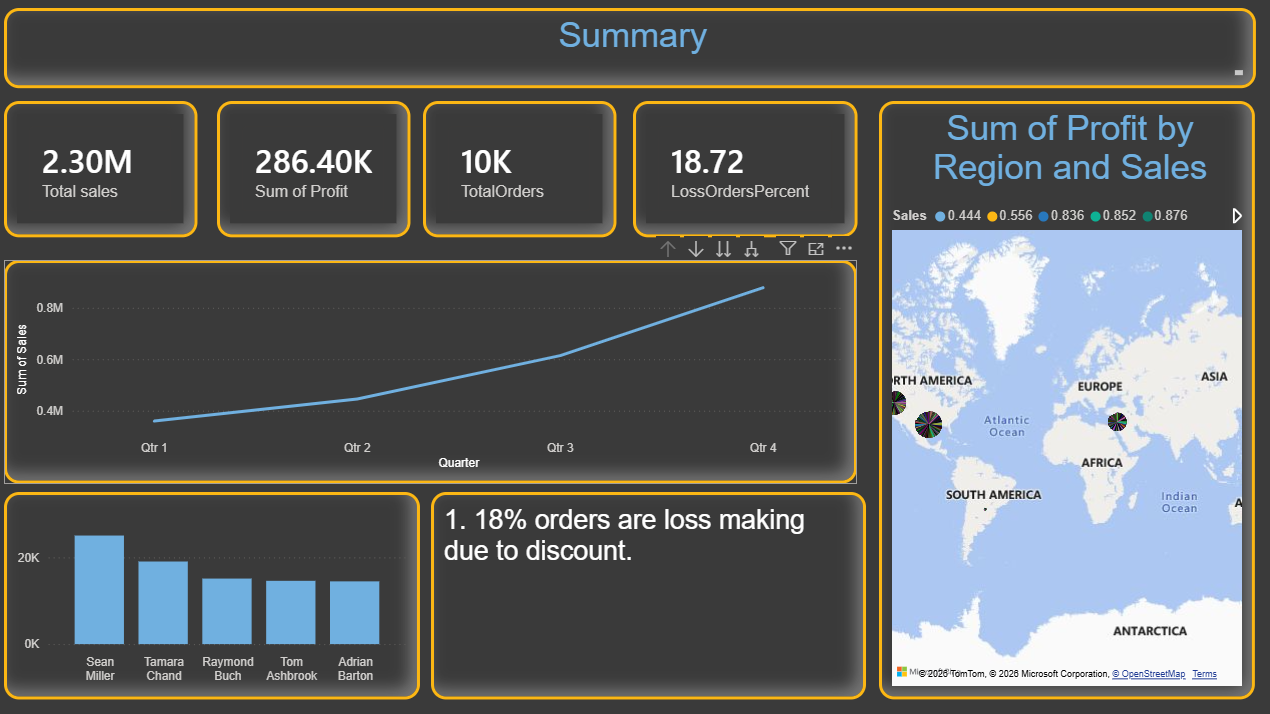

This screenshot's page, from the dashboard's own definition file:
{"tool":"powerbi","page":{"name":"summary","canvas":[1280,720],"ordinal":6},"visuals":[{"type":"cardVisual","fields":{"Data":["Sample -- Superstore (2).Total sales"]},"box":[12.8,104.5,192.8,135.9],"z":0},{"type":"cardVisual","fields":{"Data":["Sum(Sample -- Superstore (2).Profit)"]},"box":[225.3,104.5,192.8,135.9],"z":1000},{"type":"cardVisual","fields":{"Data":["Sample -- Superstore (2).TotalOrders"]},"box":[430.9,104.5,192.8,135.9],"z":2000},{"type":"cardVisual","fields":{"Data":["Sample -- Superstore (2).LossOrdersPercent"]},"box":[640,104.5,224.2,135.9],"z":3000},{"type":"lineChart","fields":{"Category":["Sample -- Superstore (2).Order Date.Variation.Date Hierarchy.Quarter","Sample -- Superstore (2).Order Date.Variation.Date Hierarchy.Month"],"Y":["Sum(Sample -- Superstore (2).Sales)"]},"box":[12.8,263.7,851.4,223],"z":4000},{"type":"textbox","title":"Summary","box":[12.8,11.6,1248.6,80.1],"z":5000},{"type":"map","fields":{"Category":["Sample -- Superstore (2).Region"],"Series":["Sample -- Superstore (2).Sales"],"Size":["Sum(Sample -- Superstore (2).Profit)"]},"box":[886.2,104.5,375.2,597],"z":6000},{"type":"clusteredColumnChart","fields":{"Category":["Sample -- Superstore (2).Customer Name"],"Y":["Sum(Sample -- Superstore (2).Sales)"]},"box":[12.8,494.8,414.7,206.8],"z":7000},{"type":"textbox","box":[439.1,494.8,434.4,206.8],"z":7001}]}

Visuals, with their boxes in screenshot pixels (x1, y1, x2, y2), scaled from the page's 1280x720 canvas onto the 1270x714 screenshot:
cardVisual - Sample -- Superstore (2).Total sales: region(13, 104, 204, 238)
cardVisual - Sum(Sample -- Superstore (2).Profit): region(224, 104, 415, 238)
cardVisual - Sample -- Superstore (2).TotalOrders: region(428, 104, 619, 238)
cardVisual - Sample -- Superstore (2).LossOrdersPercent: region(635, 104, 857, 238)
lineChart - Sample -- Superstore (2).Order Date.Variation.Date Hierarchy.Quarter x Sample -- Superstore (2).Order Date.Variation.Date Hierarchy.Month: region(13, 262, 857, 483)
"Summary" textbox: region(13, 12, 1252, 91)
map - Sample -- Superstore (2).Region x Sample -- Superstore (2).Sales: region(879, 104, 1252, 696)
clusteredColumnChart - Sample -- Superstore (2).Customer Name x Sum(Sample -- Superstore (2).Sales): region(13, 491, 424, 696)
textbox: region(436, 491, 867, 696)
